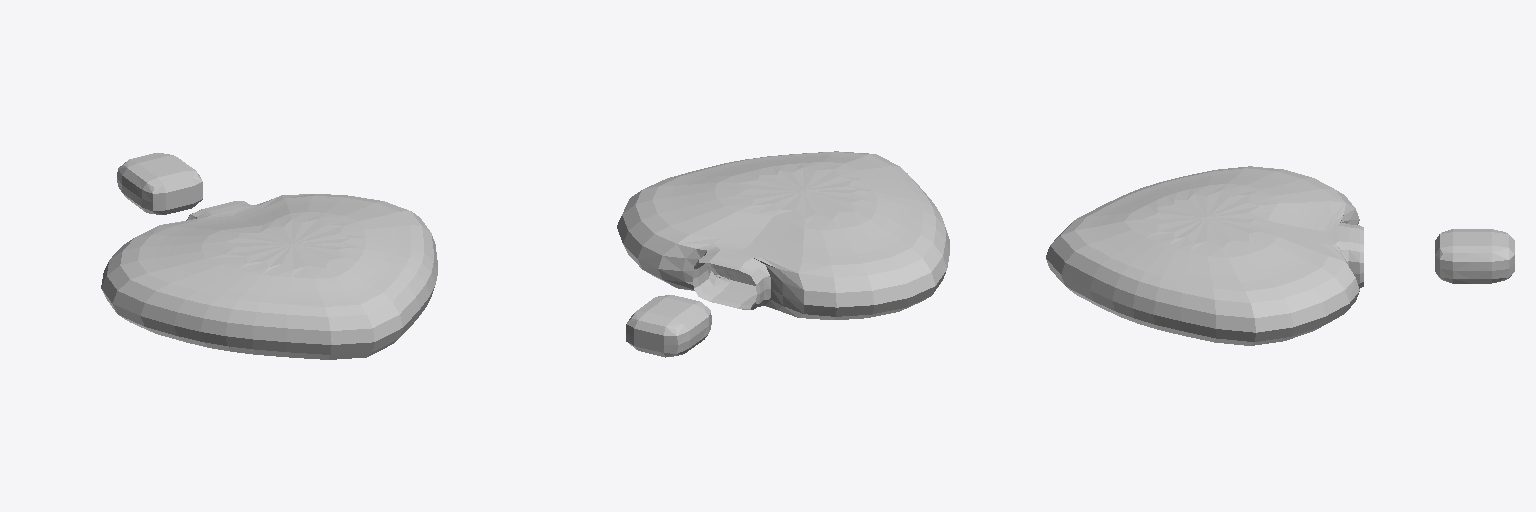
The model's file is heart shaped flask.obj.
3 views of the same model, side by side, from view 1: azimuth 30°, elevation 25°; view 2: azimuth 150°, elevation 25°; view 3: azimuth 270°, elevation 25° (orthographic).
Visible parts, largest first — view 1: pasted__pasted__polySurface22 pasted__pasted__pasted__polySurfac, polySurface20 polySurface18; view 2: pasted__pasted__polySurface22 pasted__pasted__pasted__polySurfac, polySurface20 polySurface18; view 3: pasted__pasted__polySurface22 pasted__pasted__pasted__polySurfac, polySurface20 polySurface18.
Part boxes in pixels (left/top/right/bottom): pasted__pasted__polySurface22 pasted__pasted__pasted__polySurfac: left=101, top=194, right=437, bottom=359; polySurface20 polySurface18: left=117, top=153, right=202, bottom=214; pasted__pasted__polySurface22 pasted__pasted__pasted__polySurfac: left=617, top=151, right=949, bottom=319; polySurface20 polySurface18: left=626, top=295, right=711, bottom=357; pasted__pasted__polySurface22 pasted__pasted__pasted__polySurfac: left=1046, top=166, right=1363, bottom=345; polySurface20 polySurface18: left=1435, top=229, right=1514, bottom=283.
Bounding box in the file's own units: 3.02 × 0.7141 × 3.94.